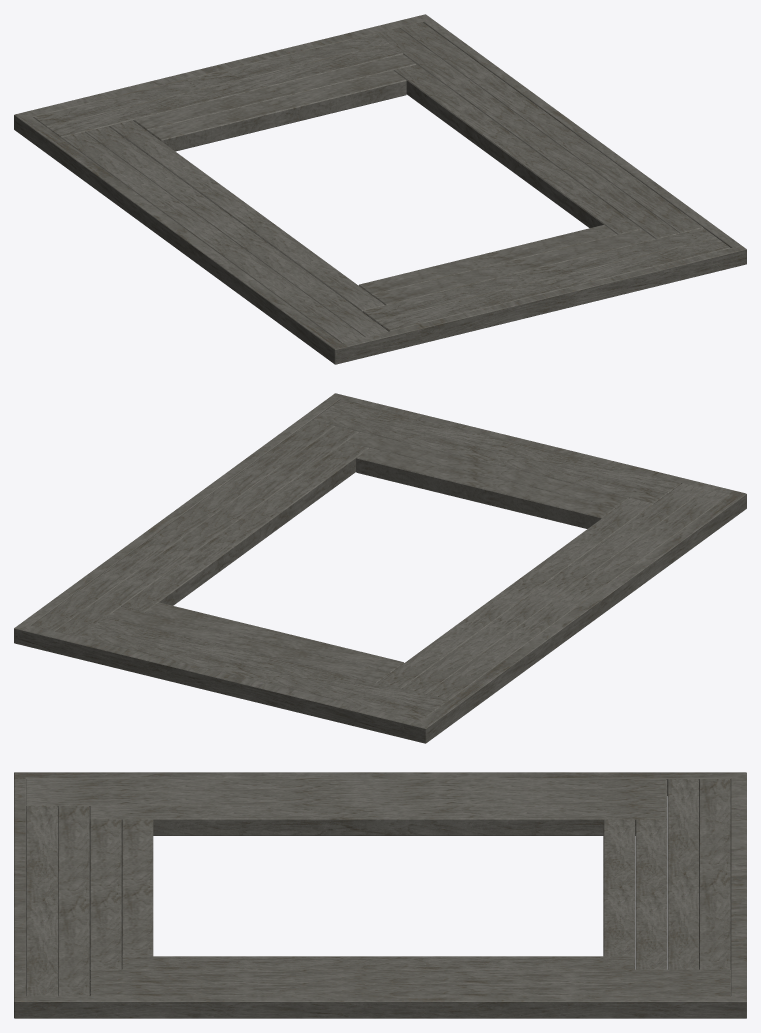
File: SM_Floor04C.fbx
The picture shows the model from 3 angles, top to bottom: view 1: azimuth 30°, elevation 25°; view 2: azimuth 150°, elevation 25°; view 3: azimuth 270°, elevation 25°; orthographic projection. The views are drawn at different scales.
Visible parts, largest first — view 1: SM_Floor04C; view 2: SM_Floor04C; view 3: SM_Floor04C.
Part boxes in pixels (x1,y1,x2,y2): SM_Floor04C: (14,14,746,364); SM_Floor04C: (14,393,746,743); SM_Floor04C: (14,772,746,1018).
Size of the model in its own units: 316 by 427 by 11.34.
1 material, 1 textured.
